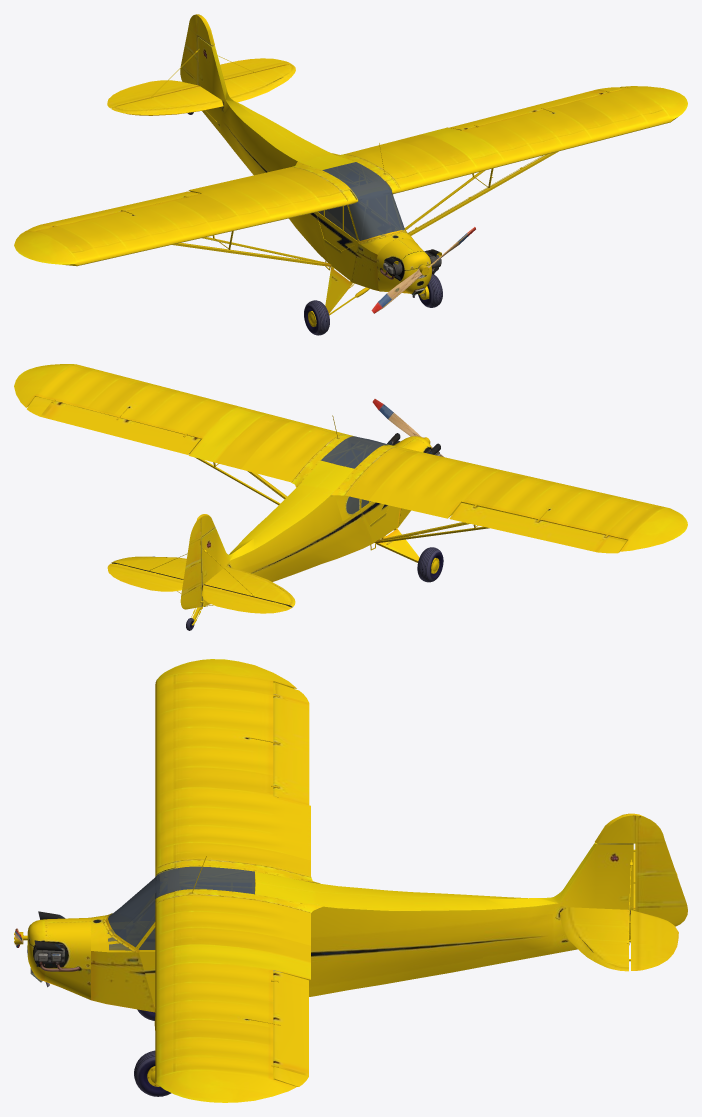
File: cub.glb
3 renders of one model, top to bottom at view 1: azimuth 30°, elevation 25°; view 2: azimuth 150°, elevation 25°; view 3: azimuth 270°, elevation 25°, orthographic. The views are drawn at different scales.
Visible parts, largest first — view 1: body, gear, elevR1, rud1, ailL1, ailR1, fanR4; view 2: body, ailL1, ailR1, gear, elevR1, rud1, fanR4; view 3: body, rud1, ailR1, ailL1, elevR1, gear.
Boxes of the visible parts, bbox=[...] form: body: bbox=[14, 37, 687, 315]; gear: bbox=[150, 49, 558, 335]; elevR1: bbox=[107, 58, 291, 108]; rud1: bbox=[180, 14, 214, 85]; ailL1: bbox=[450, 87, 626, 130]; ailR1: bbox=[27, 191, 199, 231]; fanR4: bbox=[371, 227, 475, 313]; body: bbox=[14, 364, 687, 607]; ailL1: bbox=[27, 396, 201, 454]; ailR1: bbox=[449, 503, 627, 553]; gear: bbox=[149, 457, 489, 630]; elevR1: bbox=[107, 563, 291, 613]; rud1: bbox=[180, 514, 215, 609]; fanR4: bbox=[372, 399, 444, 457]; body: bbox=[27, 659, 635, 1102]; rud1: bbox=[595, 813, 687, 926]; ailR1: bbox=[273, 682, 309, 805]; ailL1: bbox=[273, 971, 308, 1086]; elevR1: bbox=[631, 849, 678, 970]; gear: bbox=[134, 859, 632, 1096].
Size of what is drawn, in the model's own units: 10.65 by 2.73 by 6.86.
10 materials, 8 textured.
